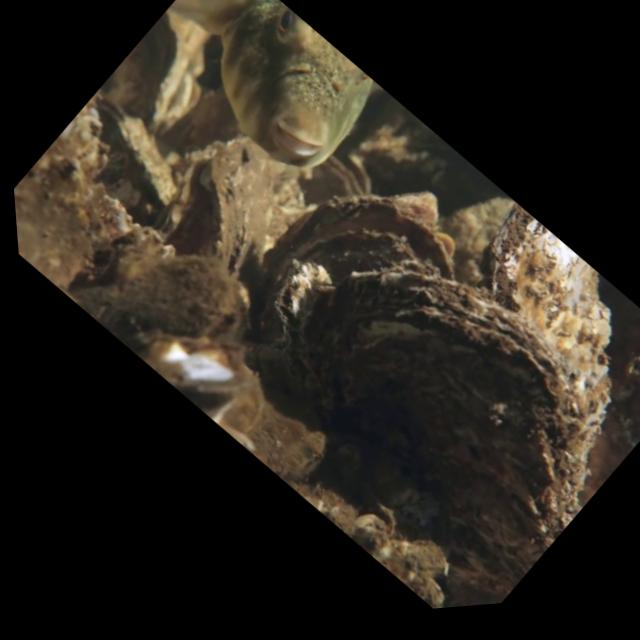Oyster-Closed: (476, 198, 624, 469), (95, 98, 181, 221), (168, 158, 255, 278), (131, 13, 192, 129)
Oyster-Indeterminate: (300, 263, 609, 582), (240, 185, 464, 437)
